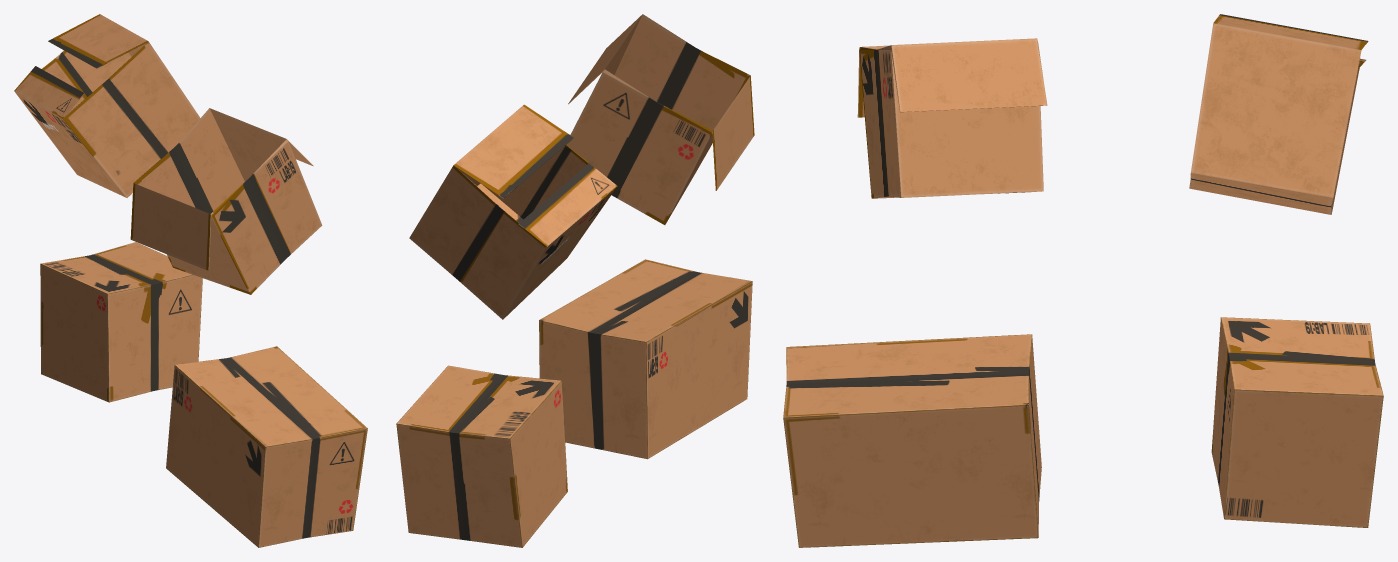
Rendered from cardboard_boxes.glb.
The picture shows the model from 3 angles, left to right: view 1: azimuth 30°, elevation 25°; view 2: azimuth 150°, elevation 25°; view 3: azimuth 270°, elevation 25°; orthographic projection. The views are drawn at different scales.
Visible parts, largest first — view 1: Box.03, Box.04, Box.02, Box.01; view 2: Box.03, Box.02, Box.01, Box.04; view 3: Box.03, Box.02, Box.04, Box.01.
Part boxes in pixels (x1,y1,x2,y2): Box.03: (166, 346, 367, 547); Box.04: (130, 108, 322, 294); Box.02: (40, 242, 202, 402); Box.01: (14, 14, 200, 197); Box.03: (539, 259, 752, 459); Box.02: (396, 365, 567, 547); Box.01: (409, 104, 617, 319); Box.04: (566, 14, 754, 224); Box.03: (783, 334, 1041, 547); Box.02: (1211, 317, 1383, 527); Box.04: (857, 38, 1047, 198); Box.01: (1189, 14, 1368, 214).
Bounding box in the file's own units: 1.03 × 2.35 × 2.57.
4 materials, 4 textured.
